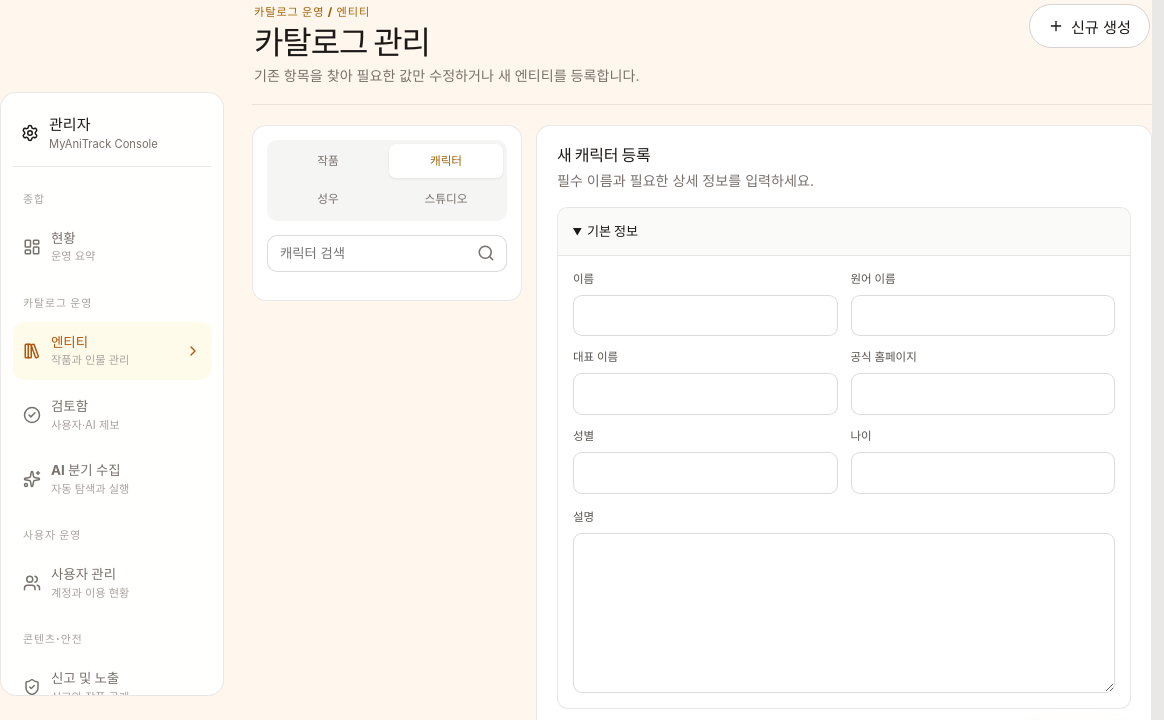
Scenario: admin console › loads the complete CHARACTER source record after selecting a search result
Step 1. Type "테스트 캐릭터" into the search field with placeholder "캐릭터 검색" → {"x": 367, "y": 253}, box [268, 236, 466, 271]
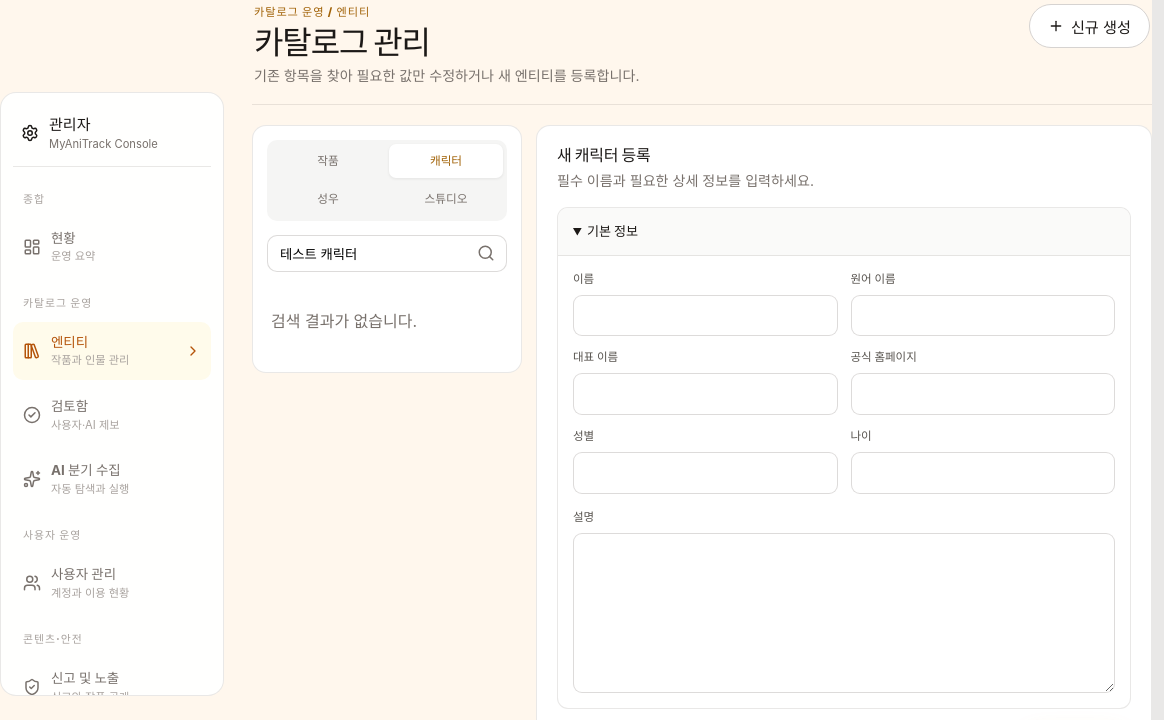
Step 2. Click the button named "검색" → {"x": 486, "y": 253}, box [466, 236, 506, 271]
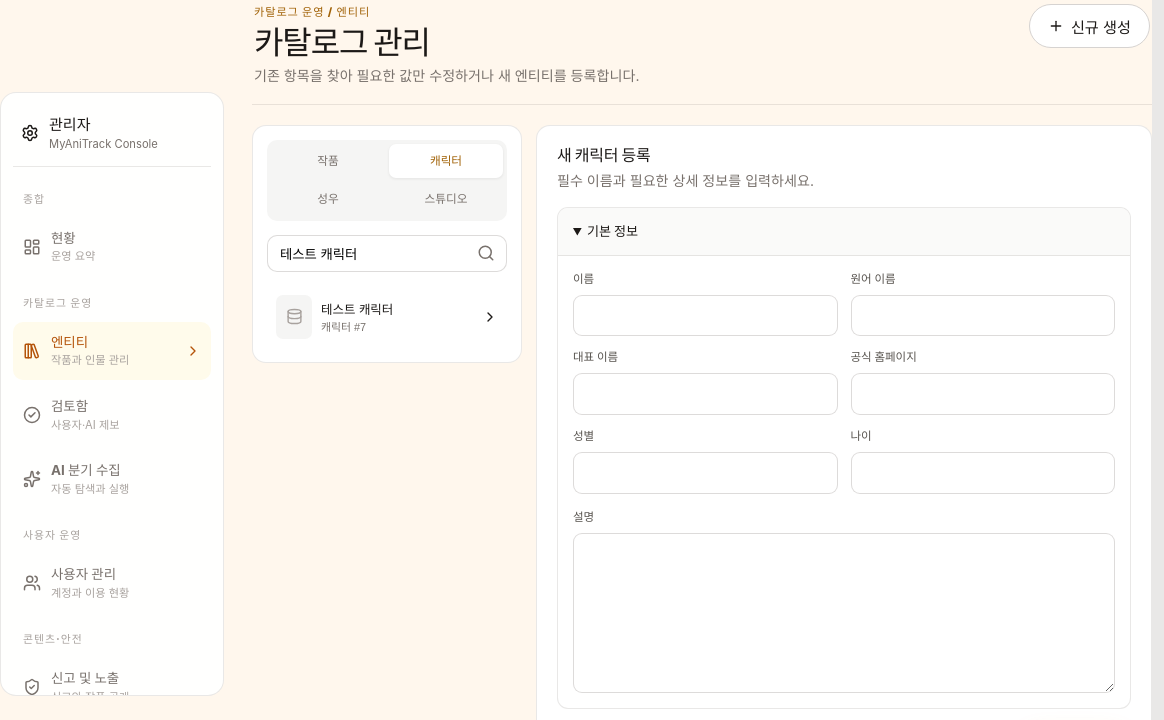
Step 3. Click the button "테스트 캐릭터 캐릭터 #7" → {"x": 387, "y": 317}, box [267, 286, 507, 348]
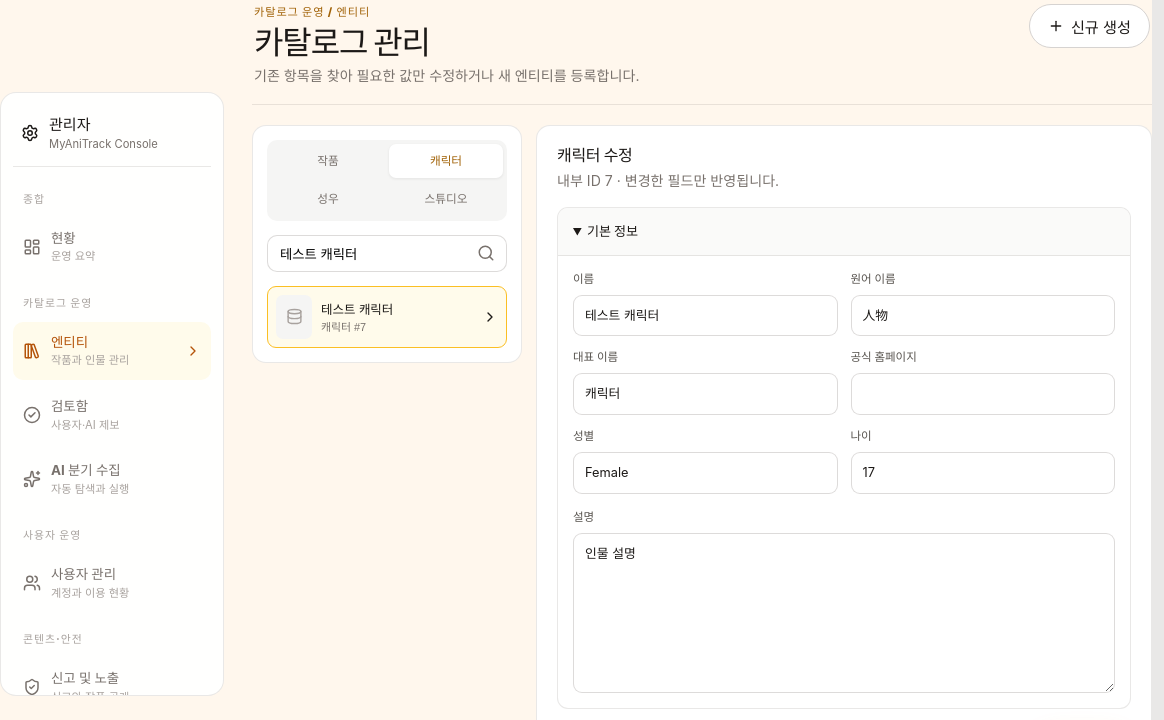
Expected: the text "내부 ID 7 · 변경한 필드만 반영됩니다." is shown, [557, 170, 779, 191]
